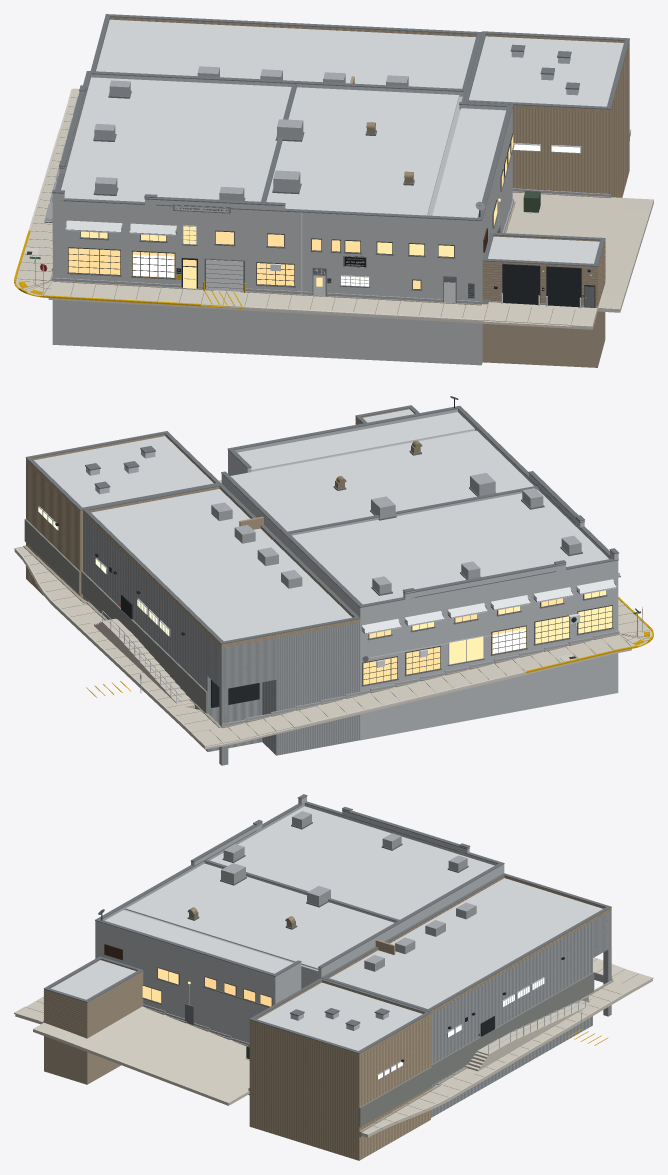
The model's file is regional-jail-west.glb.
3 renders of one model, top to bottom at view 1: azimuth 30°, elevation 25°; view 2: azimuth 150°, elevation 25°; view 3: azimuth 270°, elevation 25°, orthographic. The views are drawn at different scales.
Visible parts, largest first — view 1: node_2, node_0, node_55, node_1, node_6, node_13, node_16, node_5, node_54, node_33, node_11, node_12 (+15 smaller); view 2: node_2, node_9, node_55, node_0, node_6, node_1, node_5, node_26, node_13, node_10, node_54, node_12 (+14 smaller); view 3: node_2, node_13, node_55, node_9, node_6, node_1, node_16, node_5, node_26, node_0, node_54, node_12 (+6 smaller).
Part boxes in pixels (left/top/right/bottom): node_2: left=61, top=19, right=623, bottom=263; node_0: left=52, top=154, right=512, bottom=365; node_55: left=16, top=88, right=653, bottom=329; node_1: left=52, top=95, right=512, bottom=268; node_6: left=52, top=14, right=629, bottom=302; node_13: left=512, top=43, right=629, bottom=197; node_16: left=482, top=260, right=605, bottom=367; node_5: left=52, top=74, right=512, bottom=225; node_54: left=94, top=66, right=408, bottom=200; node_33: left=68, top=134, right=513, bottom=289; node_11: left=181, top=258, right=595, bottom=307; node_12: left=95, top=17, right=629, bottom=113; node_2: left=34, top=409, right=608, bottom=641; node_9: left=83, top=514, right=360, bottom=755; node_55: left=14, top=480, right=652, bottom=749; node_0: left=360, top=604, right=618, bottom=740; node_6: left=25, top=405, right=618, bottom=644; node_1: left=221, top=430, right=618, bottom=651; node_5: left=221, top=409, right=618, bottom=612; node_26: left=24, top=519, right=208, bottom=713; node_13: left=26, top=461, right=82, bottom=598; node_10: left=207, top=635, right=276, bottom=765; node_54: left=211, top=473, right=581, bottom=593; node_12: left=26, top=434, right=360, bottom=647; node_2: left=51, top=806, right=602, bottom=1050; node_13: left=249, top=1016, right=430, bottom=1160; node_55: left=15, top=957, right=652, bottom=1137; node_9: left=431, top=921, right=592, bottom=1117; node_6: left=43, top=794, right=611, bottom=1053; node_1: left=95, top=868, right=504, bottom=1011; node_16: left=44, top=973, right=143, bottom=1084; node_5: left=95, top=796, right=504, bottom=980; node_26: left=358, top=972, right=594, bottom=1127; node_0: left=143, top=974, right=261, bottom=1043; node_54: left=221, top=811, right=476, bottom=971; node_12: left=249, top=876, right=611, bottom=1056.
Size of the model in its own units: 63.11 by 14.69 by 66.02.
Materials: 42 (10 with a texture image).
